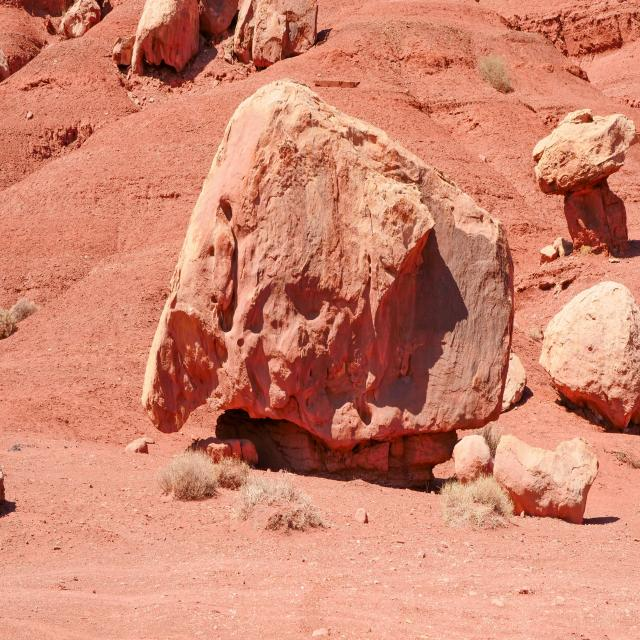red-sand: (0, 430, 640, 638), (0, 2, 255, 420), (308, 0, 640, 268)
stone: (142, 80, 514, 472), (539, 282, 640, 429), (494, 435, 598, 524), (533, 110, 635, 194), (235, 0, 319, 67), (131, 0, 199, 74), (564, 179, 629, 255), (198, 0, 238, 35)
